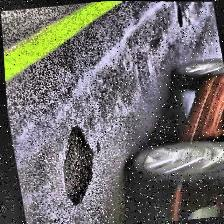pothole: (52, 123, 100, 205), (176, 4, 186, 28), (195, 2, 203, 8)
